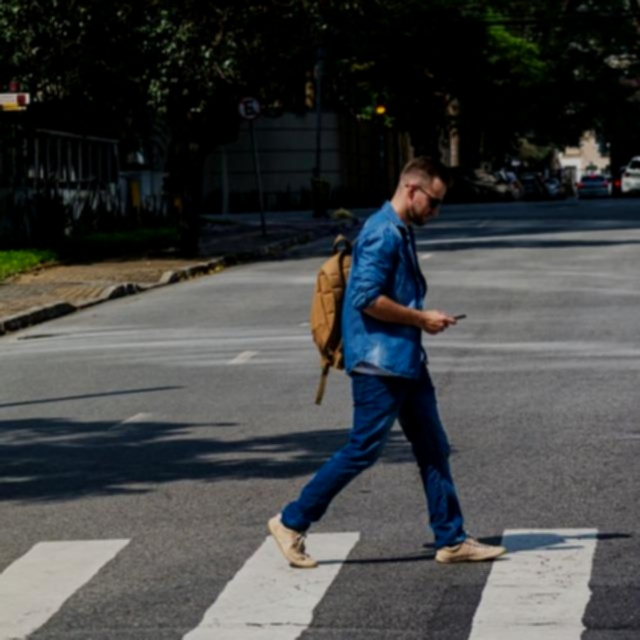Sin_Casco_Mascarrilla: (398, 157, 448, 229)
Sin_Chaleco: (344, 213, 435, 367)
